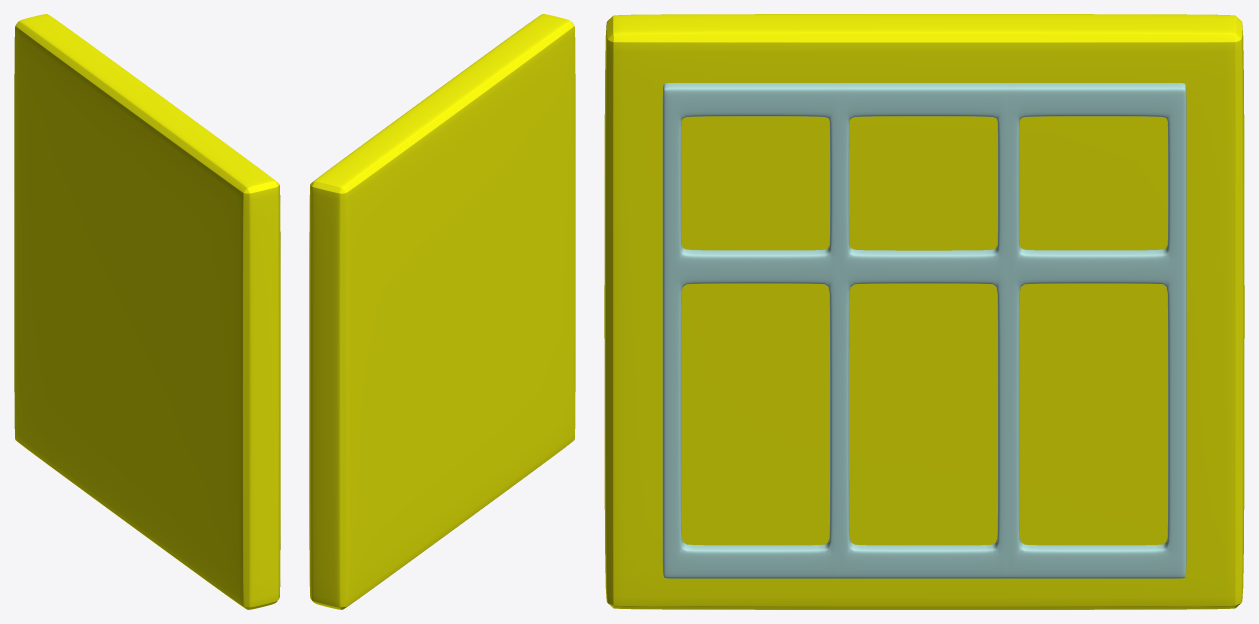
3 renders of one model, left to right at view 1: azimuth 30°, elevation 25°; view 2: azimuth 150°, elevation 25°; view 3: azimuth 270°, elevation 25°, orthographic. The views are drawn at different scales.
Visible parts, largest first — view 1: polySurface143772; view 2: polySurface143772; view 3: polySurface143772.
Boxes of the visible parts, x1=… form: polySurface143772: x1=14, y1=14, x2=280, y2=609; polySurface143772: x1=309, y1=14, x2=575, y2=609; polySurface143772: x1=604, y1=14, x2=1244, y2=609.
Bounding box in the file's own units: 0.1194 × 0.9995 × 0.9995.
